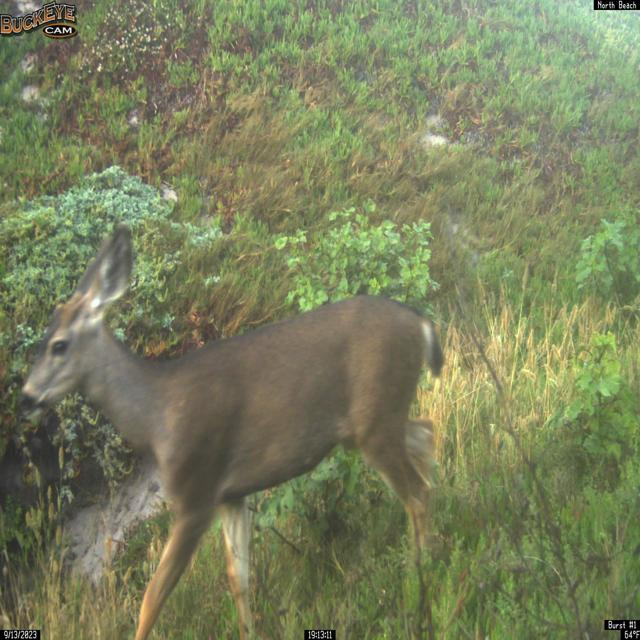deer: (18, 220, 445, 640)
